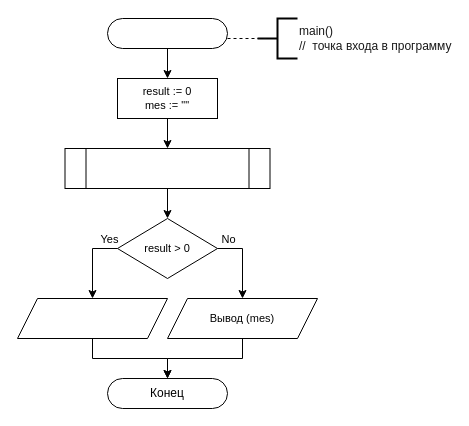
The diagram is 469 pixels wide and 426 high, and some of its shapes have lost their labels. Each missing label, with the box of its shape:
get_middle_proc(result, mes): (64, 148, 270, 188)
Вывод (mes, result): (16, 298, 168, 338)
Начало: (106, 18, 228, 48)
